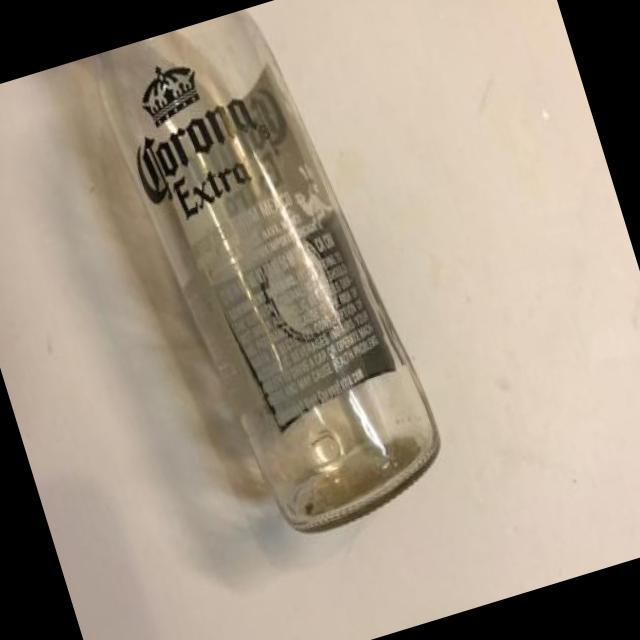BotolKaca: (80, 0, 460, 562)
